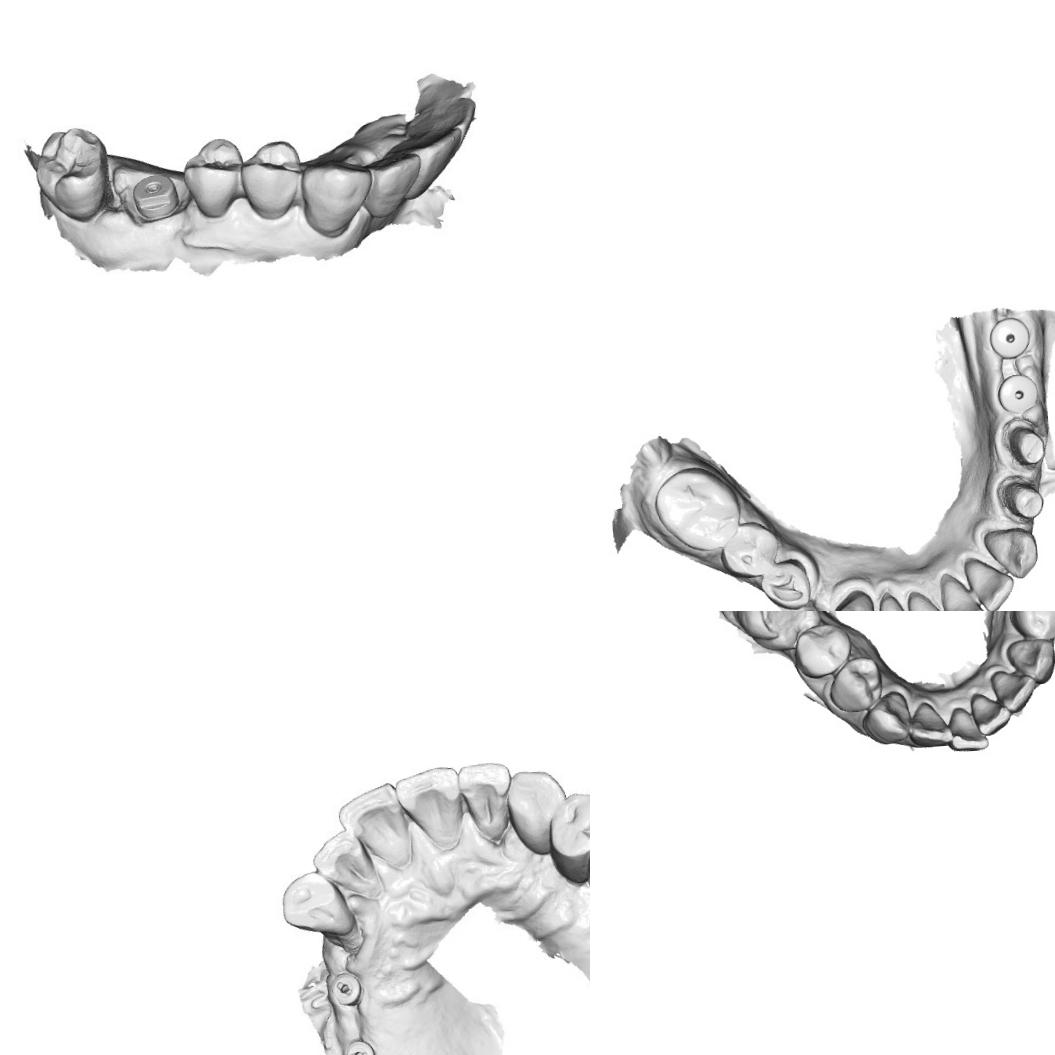canine: (296, 156, 377, 243), (502, 766, 566, 860), (279, 870, 355, 947), (980, 519, 1040, 581), (858, 688, 914, 746), (1003, 634, 1055, 685), (829, 585, 878, 611)
crown: (992, 470, 1047, 524), (996, 414, 1048, 469)
implant: (127, 167, 182, 223), (992, 370, 1042, 418), (986, 314, 1034, 362)
implant_minus: (329, 968, 365, 1004), (340, 1036, 376, 1055)
incisor: (337, 786, 418, 870), (452, 758, 518, 848), (400, 770, 460, 844), (316, 832, 382, 898), (371, 152, 425, 223), (411, 132, 464, 198), (961, 553, 1017, 611), (904, 698, 956, 750), (944, 702, 991, 754), (988, 667, 1038, 715), (968, 686, 1014, 736), (937, 567, 988, 611), (869, 587, 918, 611), (907, 588, 954, 611)
molar: (651, 464, 744, 562), (32, 123, 115, 224), (732, 611, 817, 655)
premolar: (234, 131, 302, 226), (178, 130, 247, 220), (544, 791, 590, 885), (717, 518, 783, 581), (789, 619, 854, 681), (824, 654, 886, 716), (757, 553, 816, 611), (1006, 611, 1055, 643)
